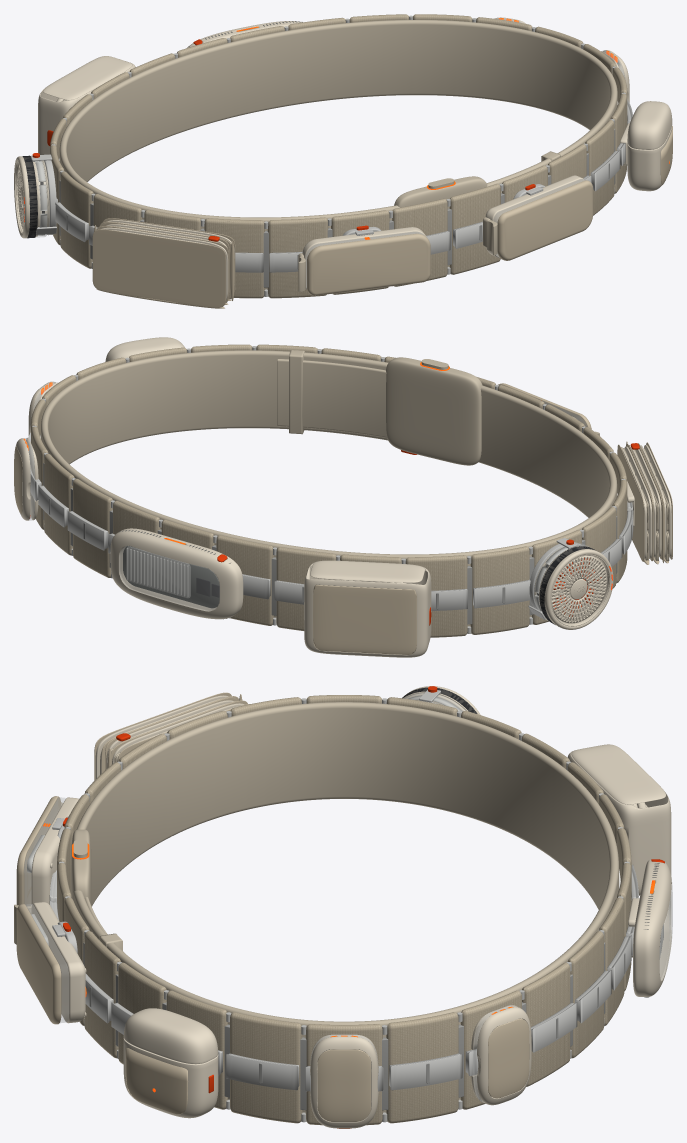
The model's file is halo-source.glb.
3 renders of one model, top to bottom at view 1: azimuth 30°, elevation 25°; view 2: azimuth 150°, elevation 25°; view 3: azimuth 270°, elevation 25°, orthographic. The views are drawn at different scales.
Parts seen in each view (by area): view 1: still, piece-151, piece-174, piece-15, piece-35, piece-105, piece-161, piece-05, piece-118, piece-157, piece-180, piece-137 (+16 smaller); view 2: still, piece-105, piece-83, piece-118, piece-151, piece-115, piece-92, piece-109, piece-71, piece-96, piece-60, piece-67 (+13 smaller); view 3: still, piece-35, piece-105, piece-15, piece-47, piece-53, piece-40, piece-60, piece-83, piece-174, piece-151, piece-67 (+16 smaller).
Part boxes in pixels (box(x1,y1,x2,y2)): still: box(59, 20, 618, 289); piece-151: box(92, 218, 235, 308); piece-174: box(298, 227, 430, 295); piece-15: box(483, 175, 592, 260); piece-35: box(620, 101, 672, 191); piece-105: box(38, 56, 135, 154); piece-161: box(267, 217, 328, 298); piece-05: box(449, 184, 500, 274); piece-118: box(14, 155, 49, 238); piece-157: box(204, 218, 264, 298); piece-180: box(392, 198, 447, 286); piece-137: box(60, 171, 93, 268); still: box(40, 350, 617, 626); piece-105: box(304, 560, 431, 657); piece-83: box(110, 528, 243, 619); piece-118: box(533, 543, 613, 629); piece-151: box(617, 441, 672, 564); piece-115: box(470, 546, 529, 634); piece-92: box(216, 535, 273, 625); piece-109: box(405, 555, 467, 637); piece-71: box(73, 478, 112, 577); piece-96: box(276, 547, 336, 630); piece-60: box(14, 437, 38, 520); piece-67: box(44, 453, 74, 555); still: box(71, 702, 620, 1112); piece-35: box(123, 1008, 218, 1118); piece-105: box(567, 744, 671, 895); piece-15: box(14, 902, 86, 1024); piece-47: box(310, 1034, 378, 1128); piece-53: box(386, 1012, 458, 1123); piece-40: box(230, 1012, 302, 1123); piece-60: box(471, 1005, 531, 1105); piece-83: box(628, 859, 672, 997); piece-174: box(16, 796, 78, 905); piece-151: box(94, 692, 249, 780); piece-67: box(522, 962, 570, 1086).
Size of the model in its own units: 0.3726 by 0.0573 by 0.2871.
72 materials, 1 textured.
